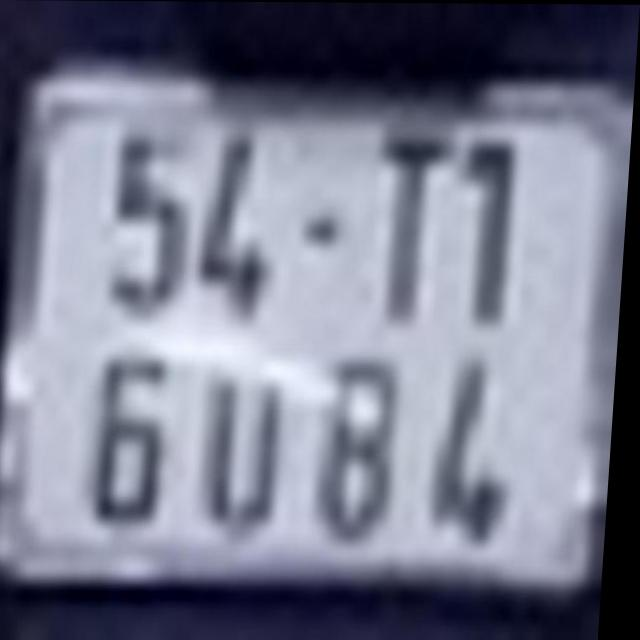0: (208, 345, 293, 535)
1: (455, 137, 517, 328)
4: (434, 355, 519, 548), (200, 136, 276, 314)
5: (112, 133, 196, 311)
6: (103, 352, 181, 525)
8: (318, 354, 406, 537)
T: (374, 134, 454, 319)
